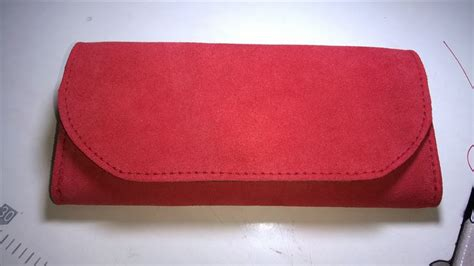gamuza: (50, 41, 443, 208)
